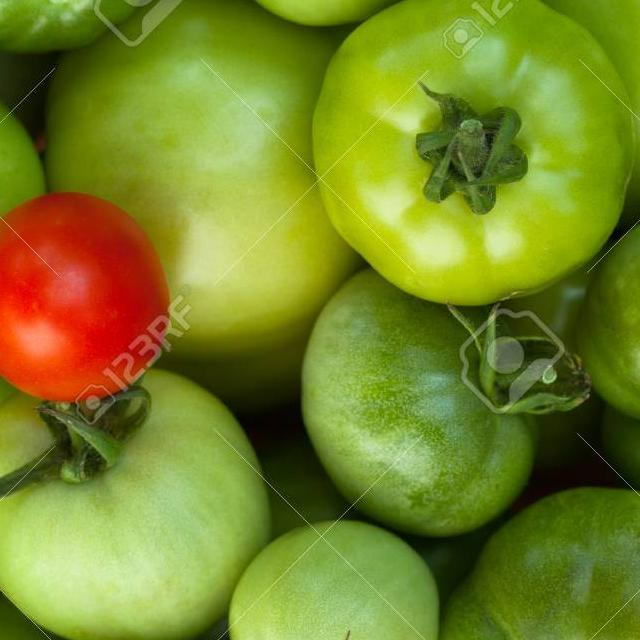tomato: (0, 193, 168, 400)
